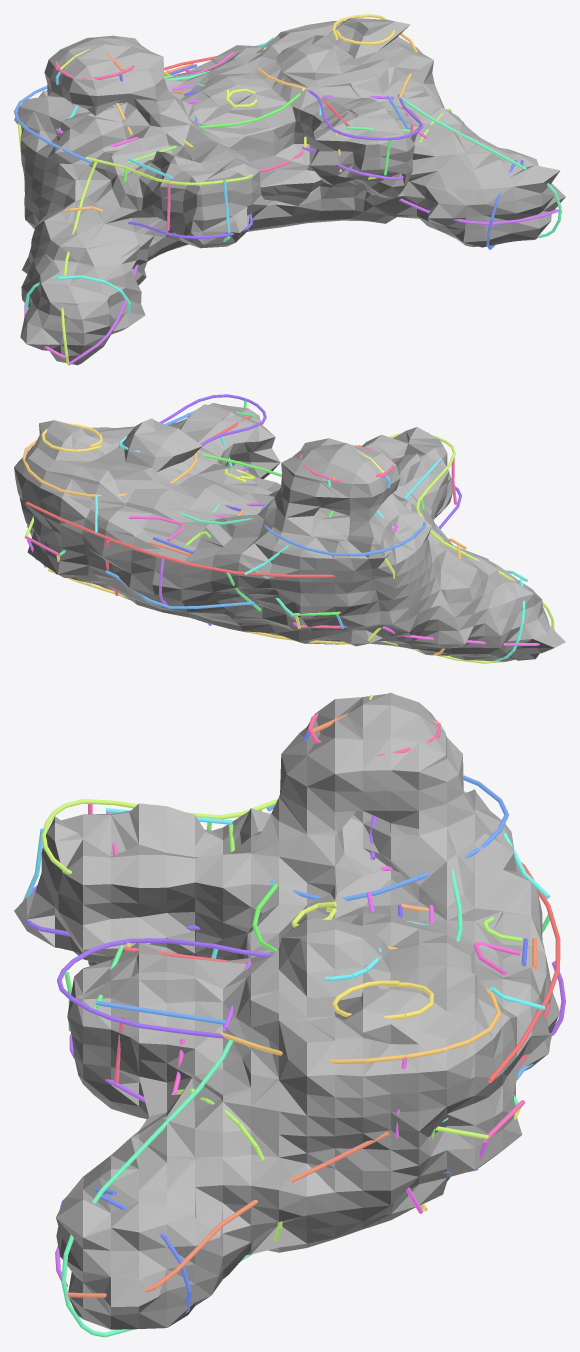
File: author2_gamepad.gltf
3 renders of one model, top to bottom at view 1: azimuth 30°, elevation 25°; view 2: azimuth 150°, elevation 25°; view 3: azimuth 270°, elevation 25°, orthographic. The views are drawn at different scales.
Size of the model in its own units: 0.8425 by 0.3659 by 0.473.
